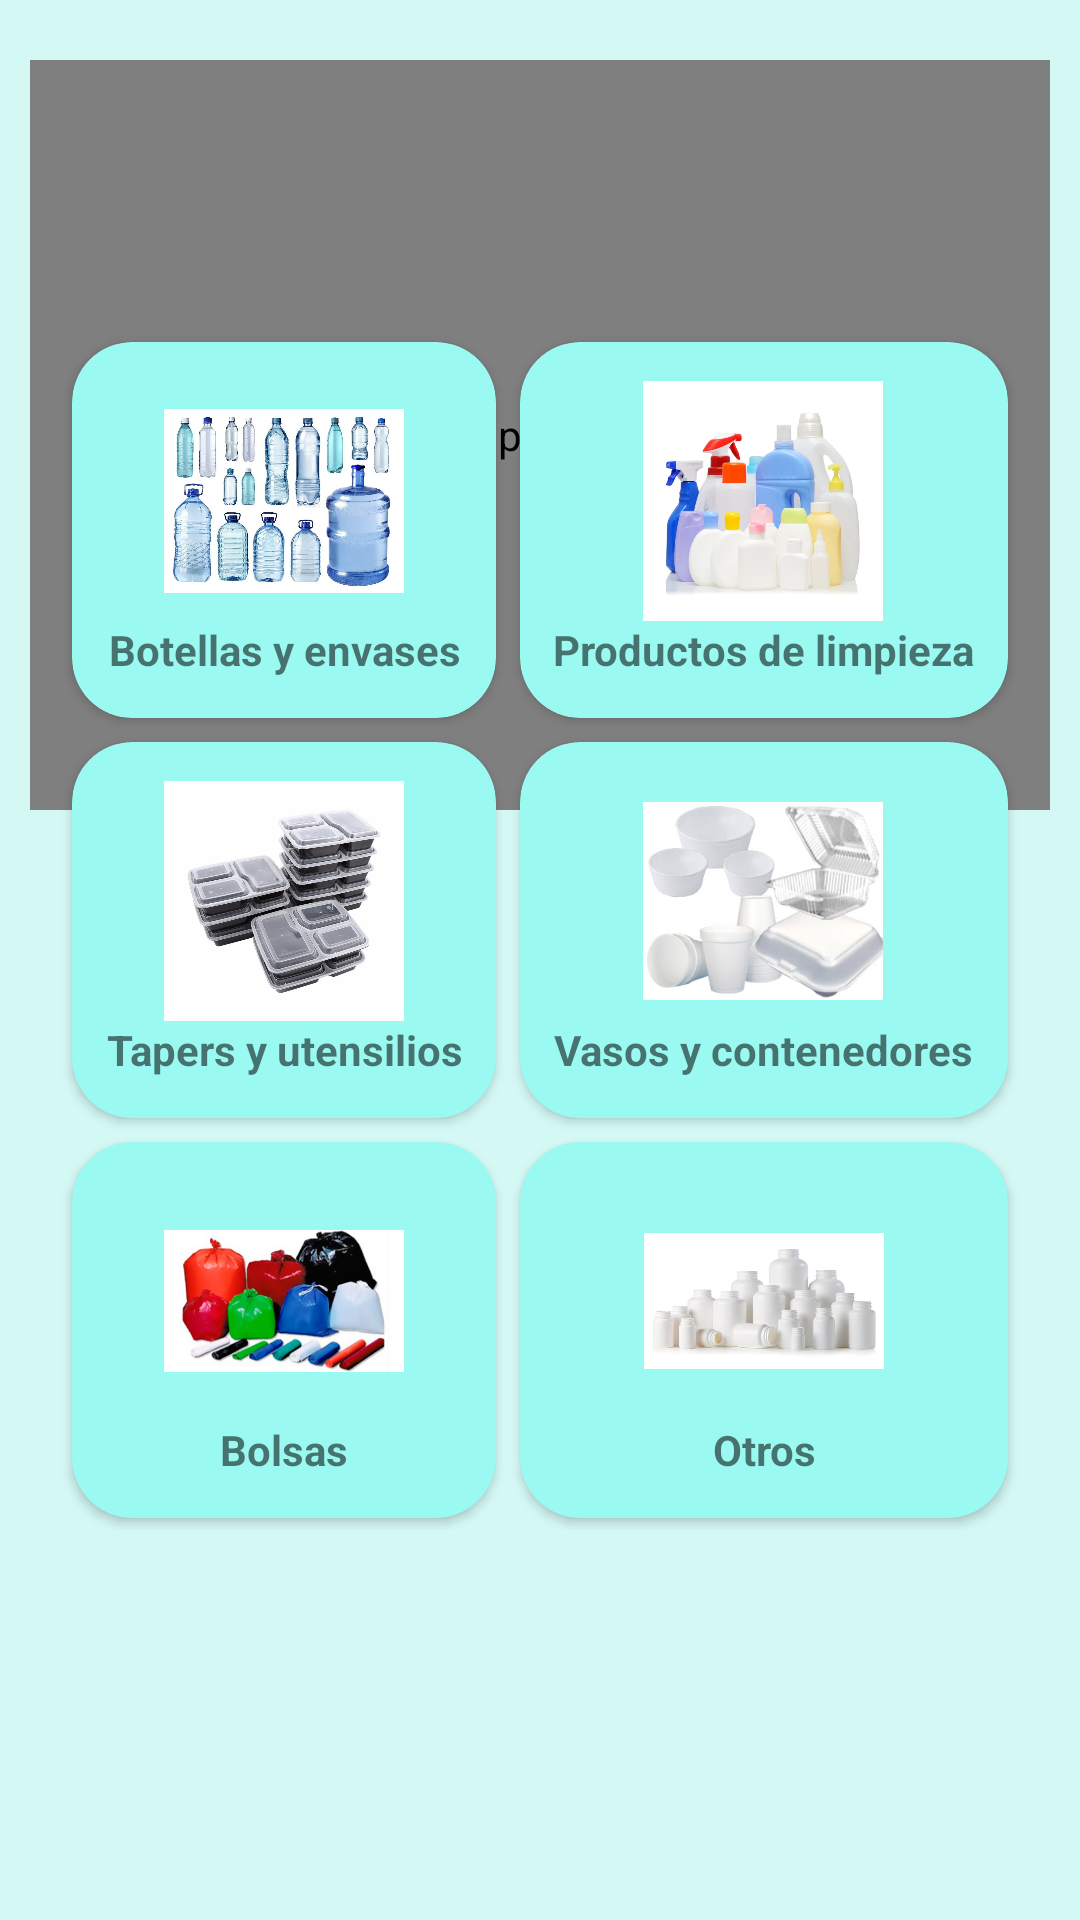

Icons on this 1080px×1920px Android screen, each with its box as region(x1, y1, x2, y2):
categoria ldpe: region(164, 1230, 404, 1372)
categoria pead: region(643, 381, 883, 621)
categoria pet: region(164, 409, 404, 593)
categoria pp: region(164, 781, 404, 1021)
categoria ps: region(643, 802, 883, 1000)
